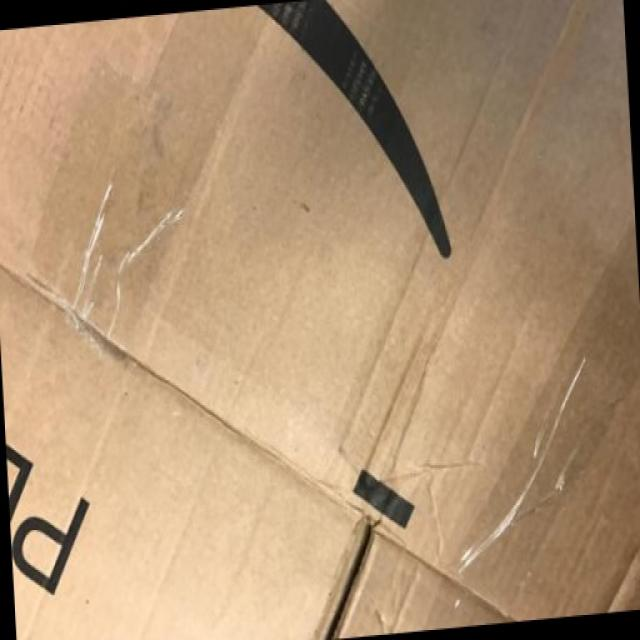carton: (0, 18, 628, 630)
